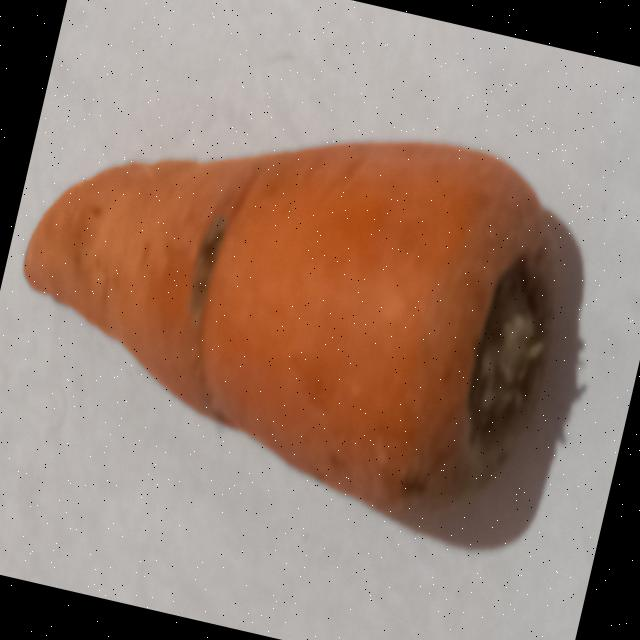carrot: (23, 142, 549, 513)
